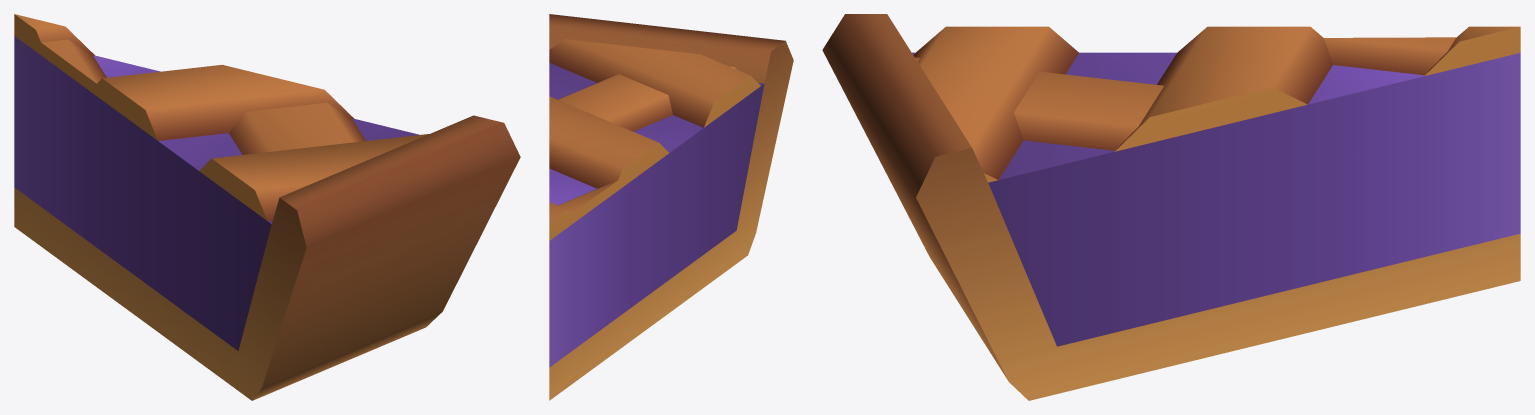
File: m_AmericanPie03_Slice03.fbx
3 renders of one model, left to right at view 1: azimuth 30°, elevation 25°; view 2: azimuth 150°, elevation 25°; view 3: azimuth 270°, elevation 25°, orthographic. The views are drawn at different scales.
Parts seen in each view (by area): view 1: m_AmericanPie03_Slice03; view 2: m_AmericanPie03_Slice03; view 3: m_AmericanPie03_Slice03.
Boxes of the visible parts, x1,y1,x2,y2 form: m_AmericanPie03_Slice03: [14, 14, 520, 400]; m_AmericanPie03_Slice03: [549, 14, 793, 400]; m_AmericanPie03_Slice03: [822, 14, 1520, 400].
Size of the model in its own units: 7 by 5.91 by 14.
